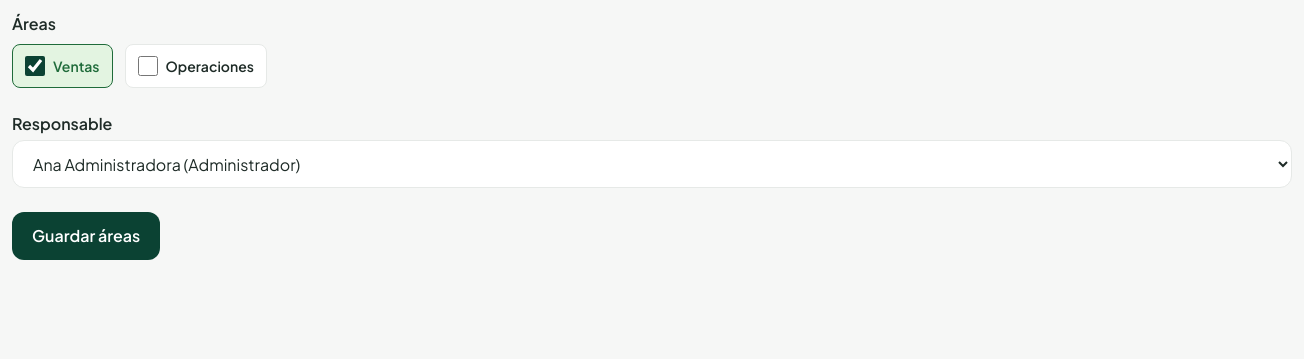
Test: ChangeAreasForm (spec 003, R3 a R5; plan 003, 6.2) › errores de la API, sin perder lo elegido › 503: el mensaje y lo elegido sigue igual
Expected: the element "Áreas" is shown, [12,13,267,88]
Expected: the dropdown labelled "Responsable" is enabled, [12,140,1292,188]
Click the checkbox labelled "Ventas" at [35, 66], box [25,56,45,76]
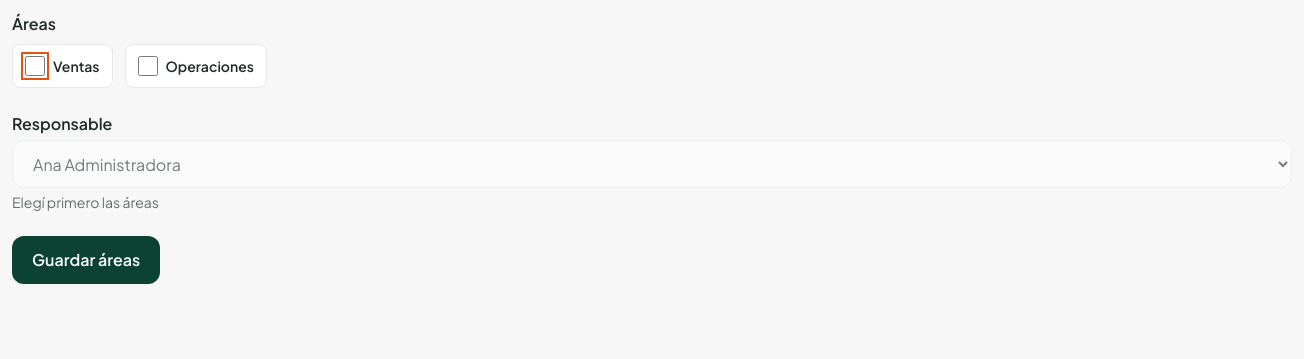
Click the checkbox labelled "Operaciones" at [148, 66], box [138,56,158,76]
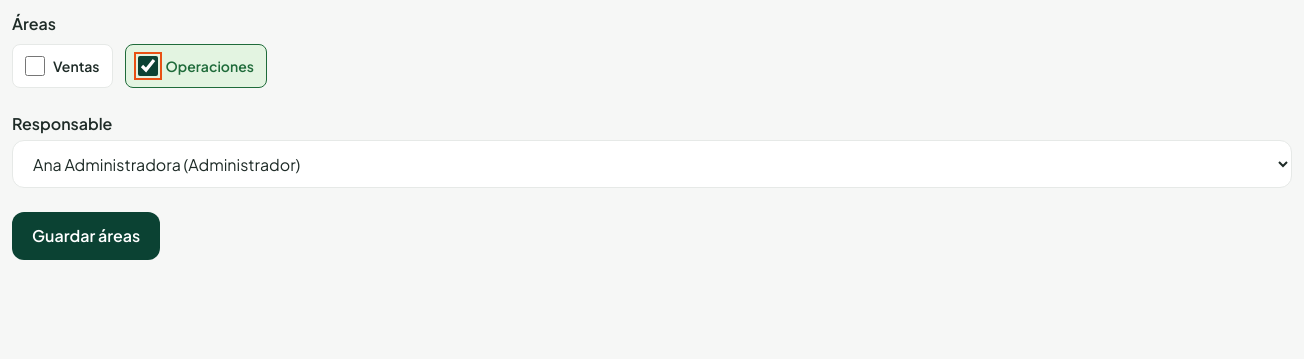
Click the button "Guardar áreas" at [86, 236], box [12,212,160,260]
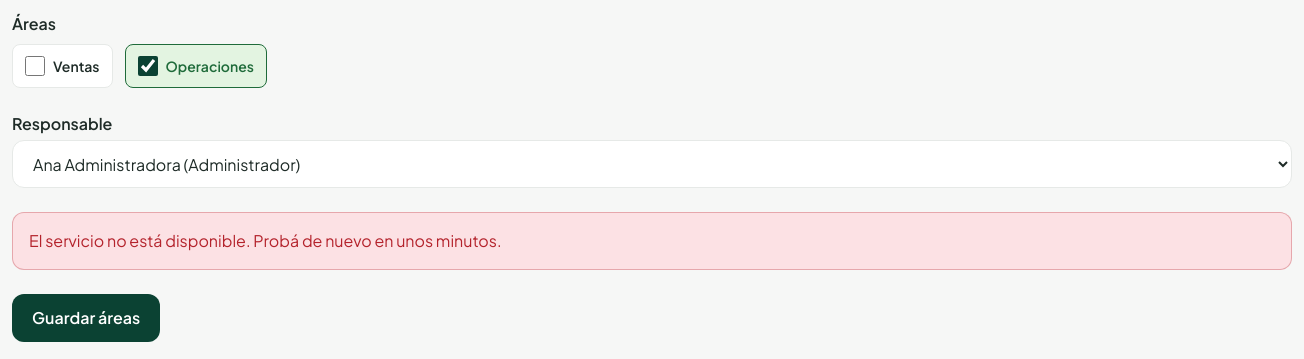
Expected: the checkbox labelled "Ventas" is not checked, [25,56,45,76]
Expected: the checkbox labelled "Operaciones" is checked, [138,56,158,76]
Expected: the message shows "Probá de nuevo en unos minutos", [29,230,502,251]
